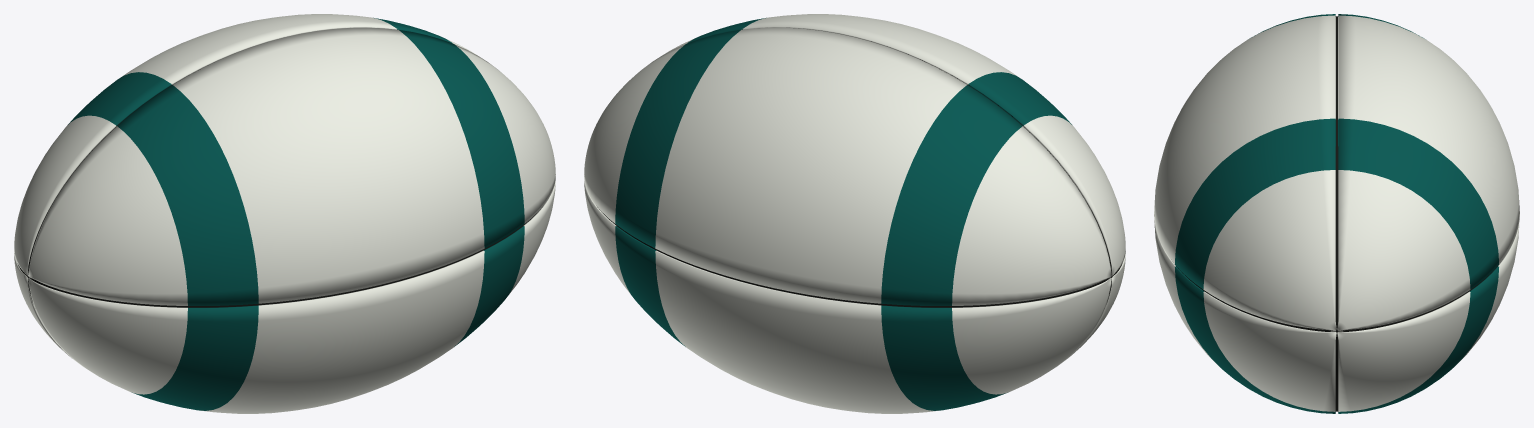
The picture shows the model from 3 angles, left to right: view 1: azimuth 30°, elevation 25°; view 2: azimuth 150°, elevation 25°; view 3: azimuth 270°, elevation 25°; orthographic projection. The views are drawn at different scales.
Parts seen in each view (by area): view 1: MESH_RugbyBall; view 2: MESH_RugbyBall; view 3: MESH_RugbyBall.
Part boxes in pixels (x1,y1,x2,y2): MESH_RugbyBall: [14, 14, 555, 413]; MESH_RugbyBall: [584, 14, 1125, 413]; MESH_RugbyBall: [1154, 14, 1519, 413].
Size of the model in its own units: 0.29 by 0.191 by 0.191.
